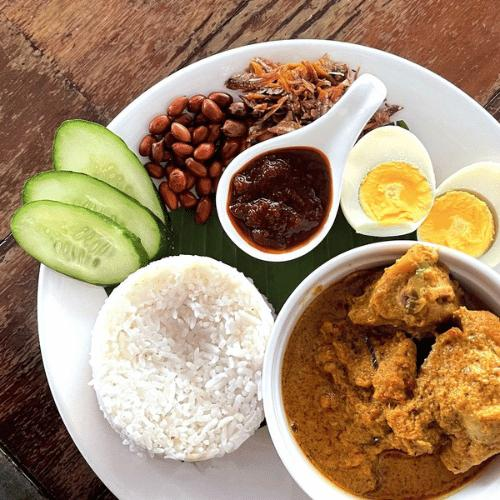Anchovies: (227, 61, 358, 133)
Boiled-Egg: (340, 125, 500, 276)
Cucumber: (11, 119, 165, 285)
Peanuts: (138, 93, 256, 222)
Rendang-Chicken: (283, 249, 500, 500)
Rice: (91, 256, 277, 464)
Sambal: (229, 155, 327, 252)
